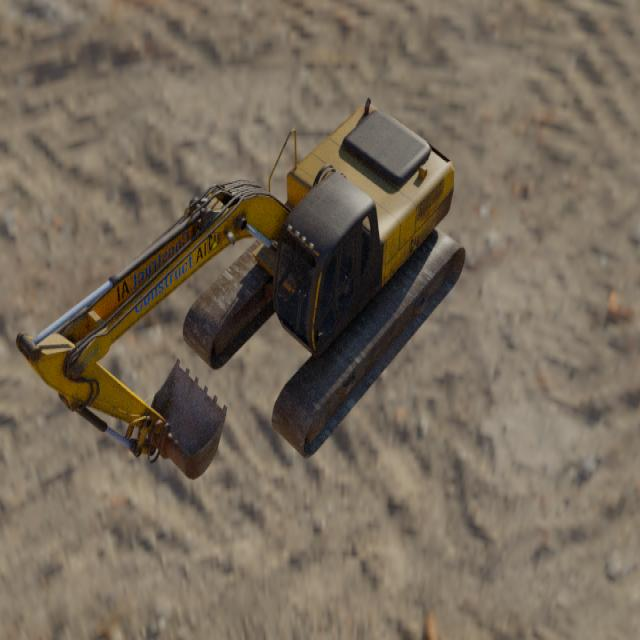excavator: (15, 96, 466, 480)
